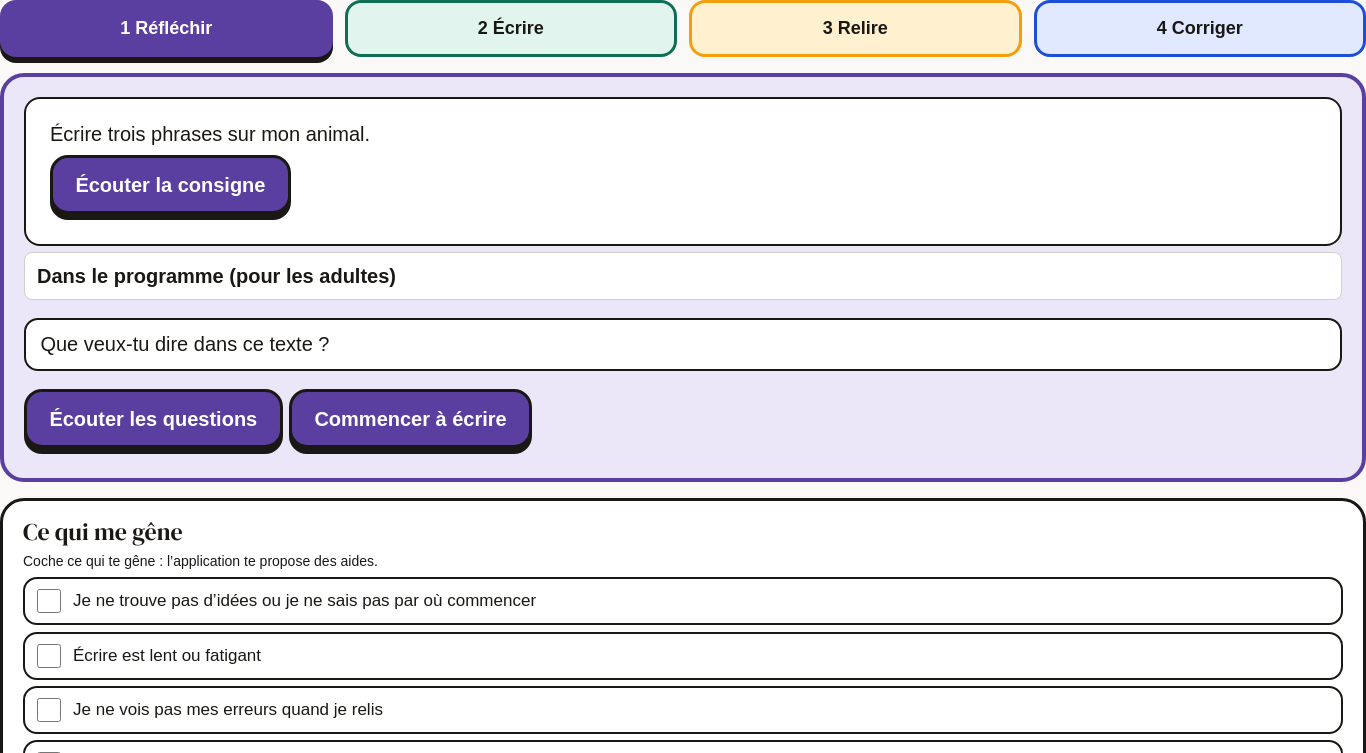
it: EcranEleve : chaque aide du catalogue a un effet visible (amélioration 2) › banque-mots : les mots de l’enseignant s’insèrent dans le texte d’un clic
This screenshot has width=1366, height=753.
What coordinates should you click on to do the following:
click the button "Commencer à écrire"
I would click on:
 (411, 419)
Its box is [289, 389, 532, 448].
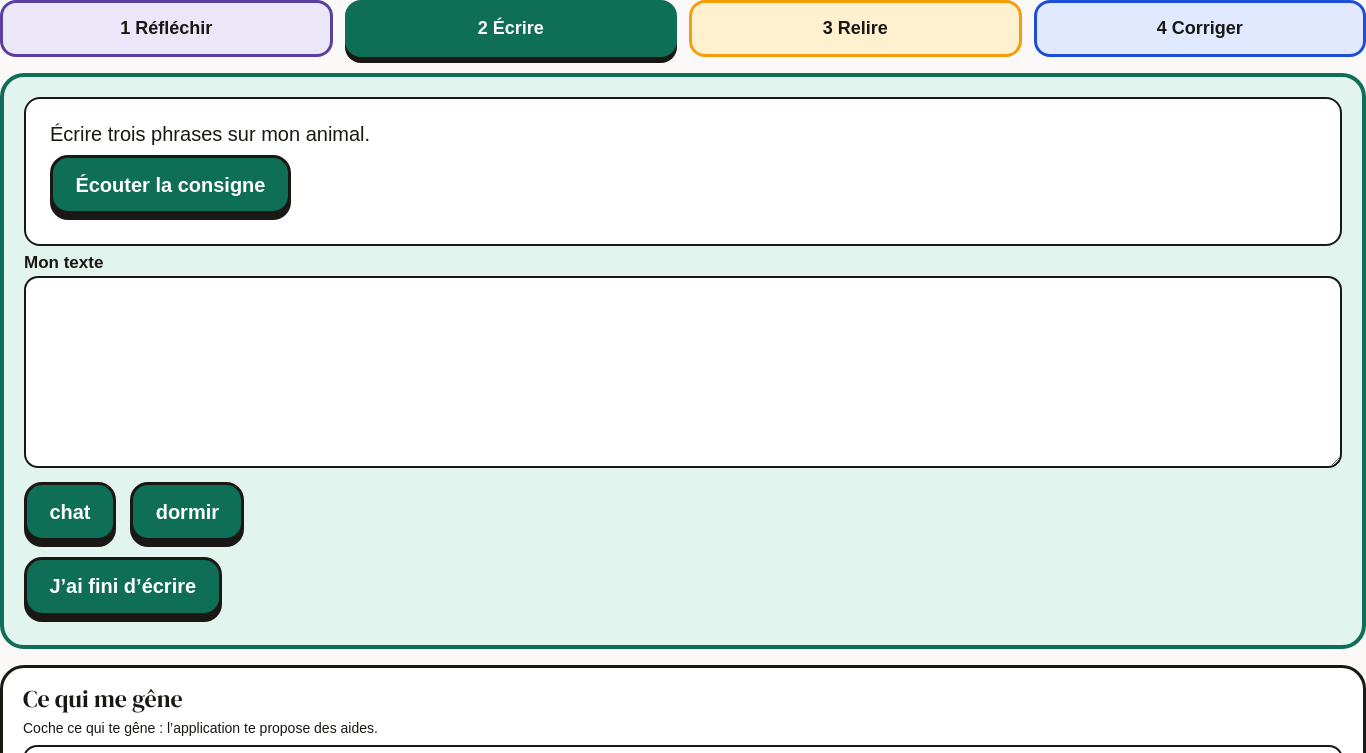
What coordinates should you click on to do the following:
click the button "chat"
I would click on:
 (70, 512)
Its box is [24, 482, 116, 541].
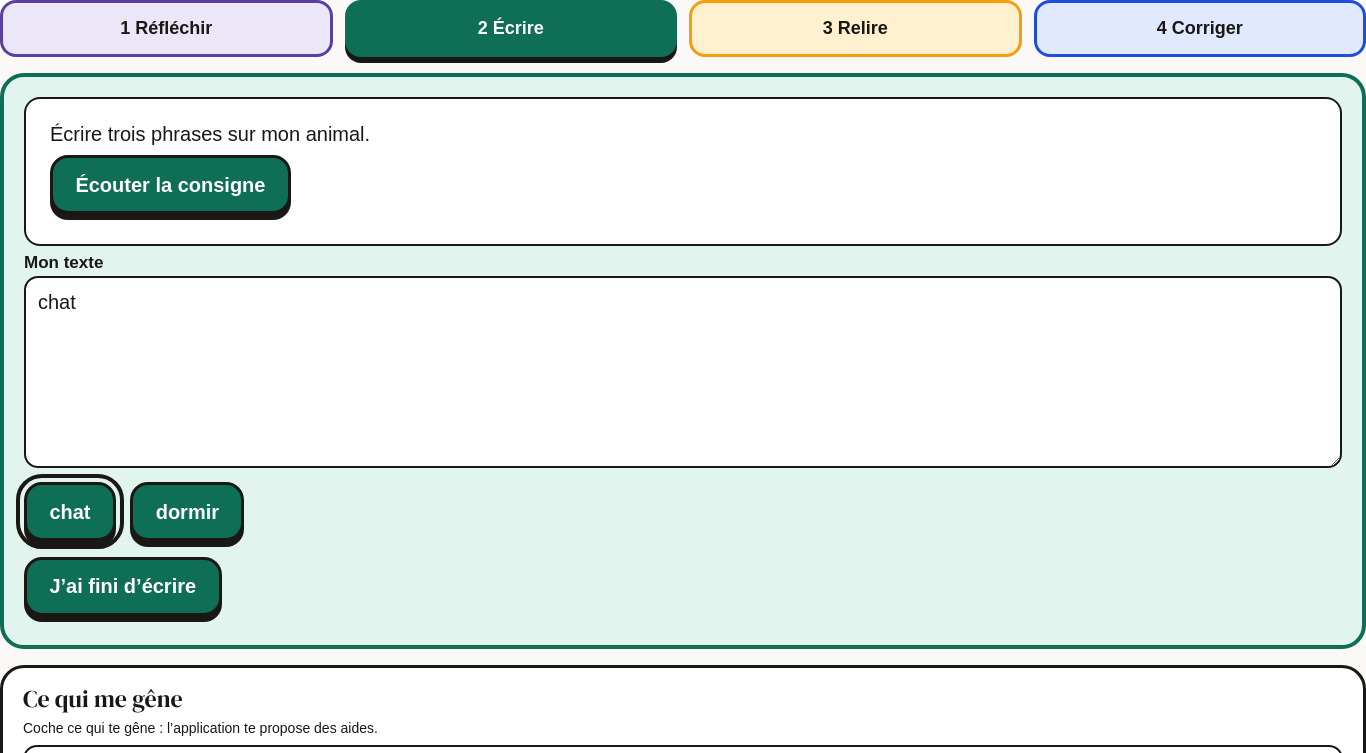
What coordinates should you click on to do the following:
click the button "dormir"
I would click on:
 (187, 512)
Its box is [130, 482, 244, 541].
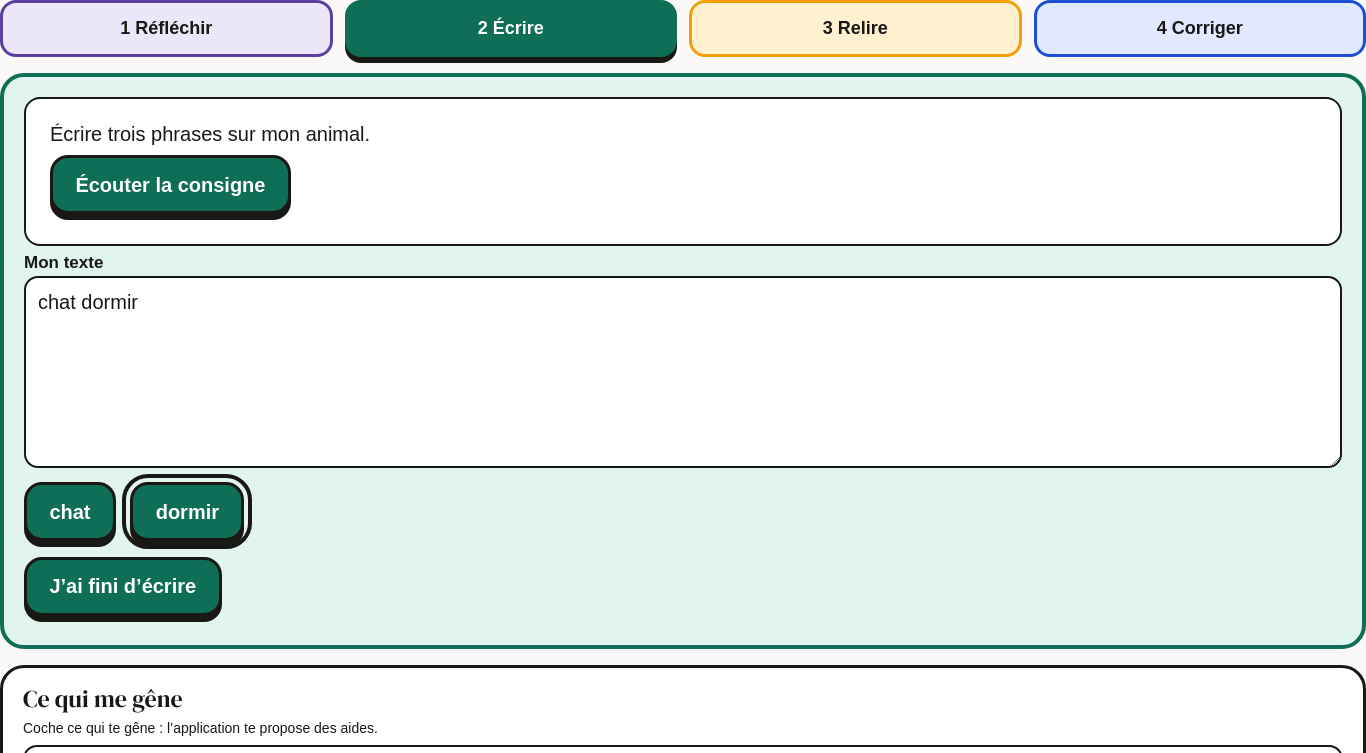
Check: the text box labelled "Mon texte" holds "chat dormir", box [24, 276, 1342, 468]
